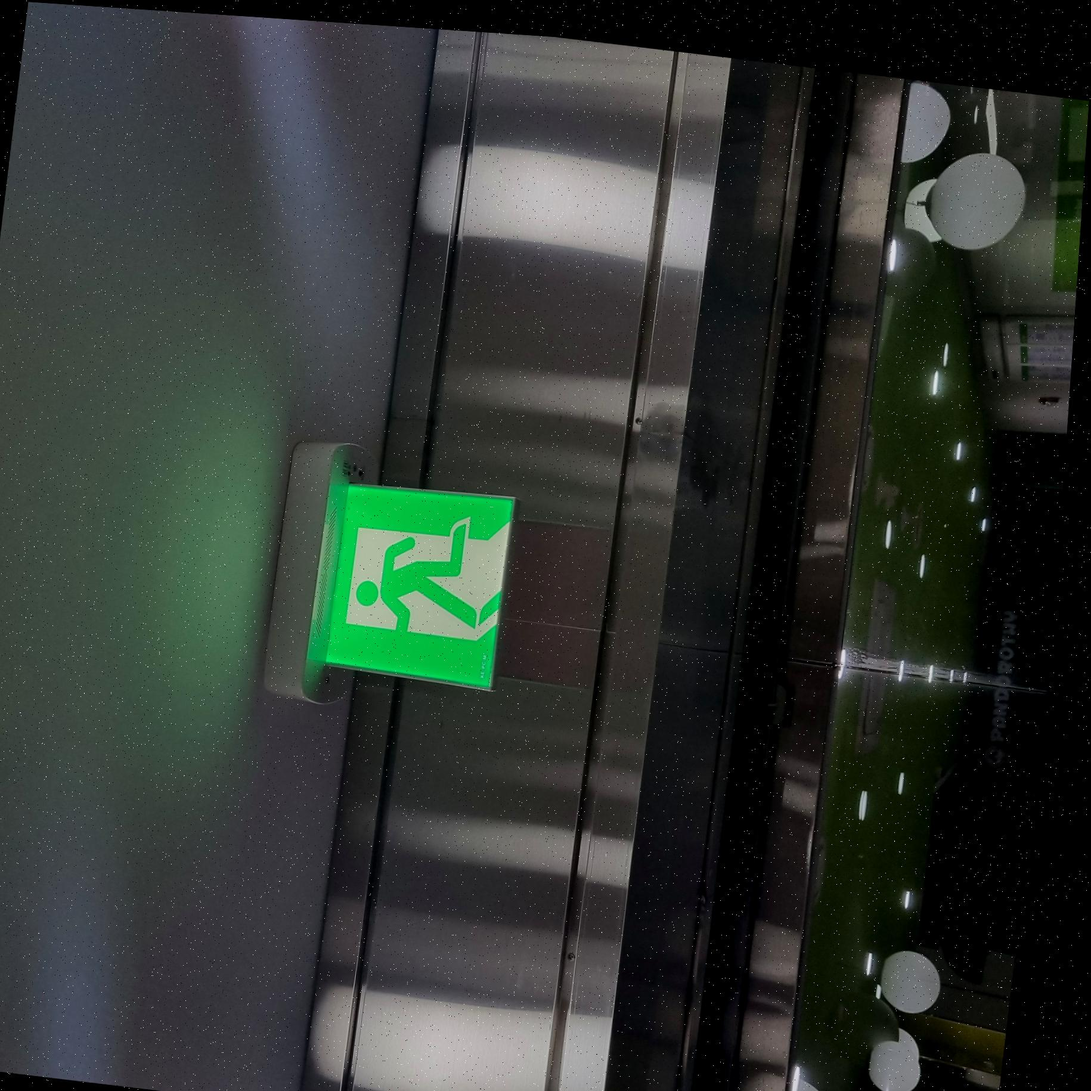emergency_exit: (265, 439, 519, 706), (311, 468, 517, 694)
